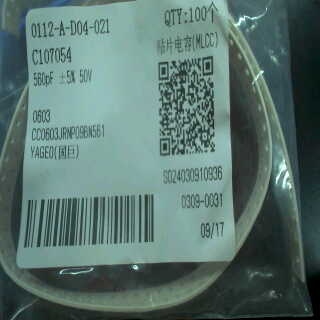560pF: (31, 70, 54, 89)
